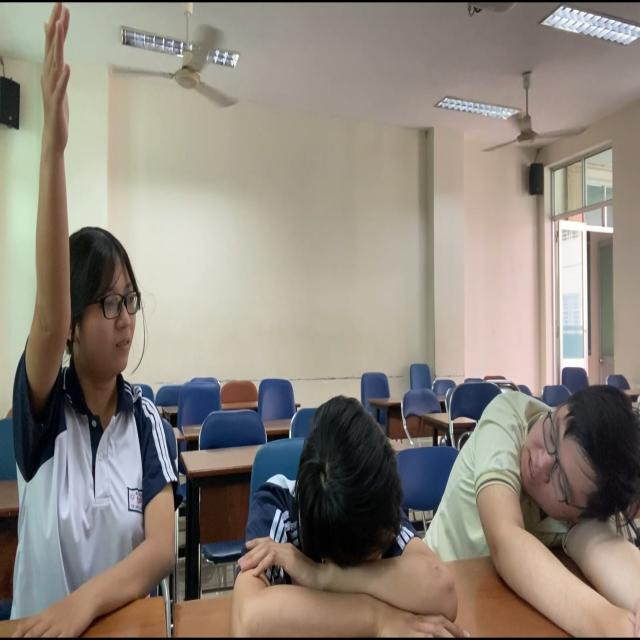raise_hand: (1, 1, 193, 632)
sleep: (218, 388, 475, 640), (438, 363, 640, 640)
